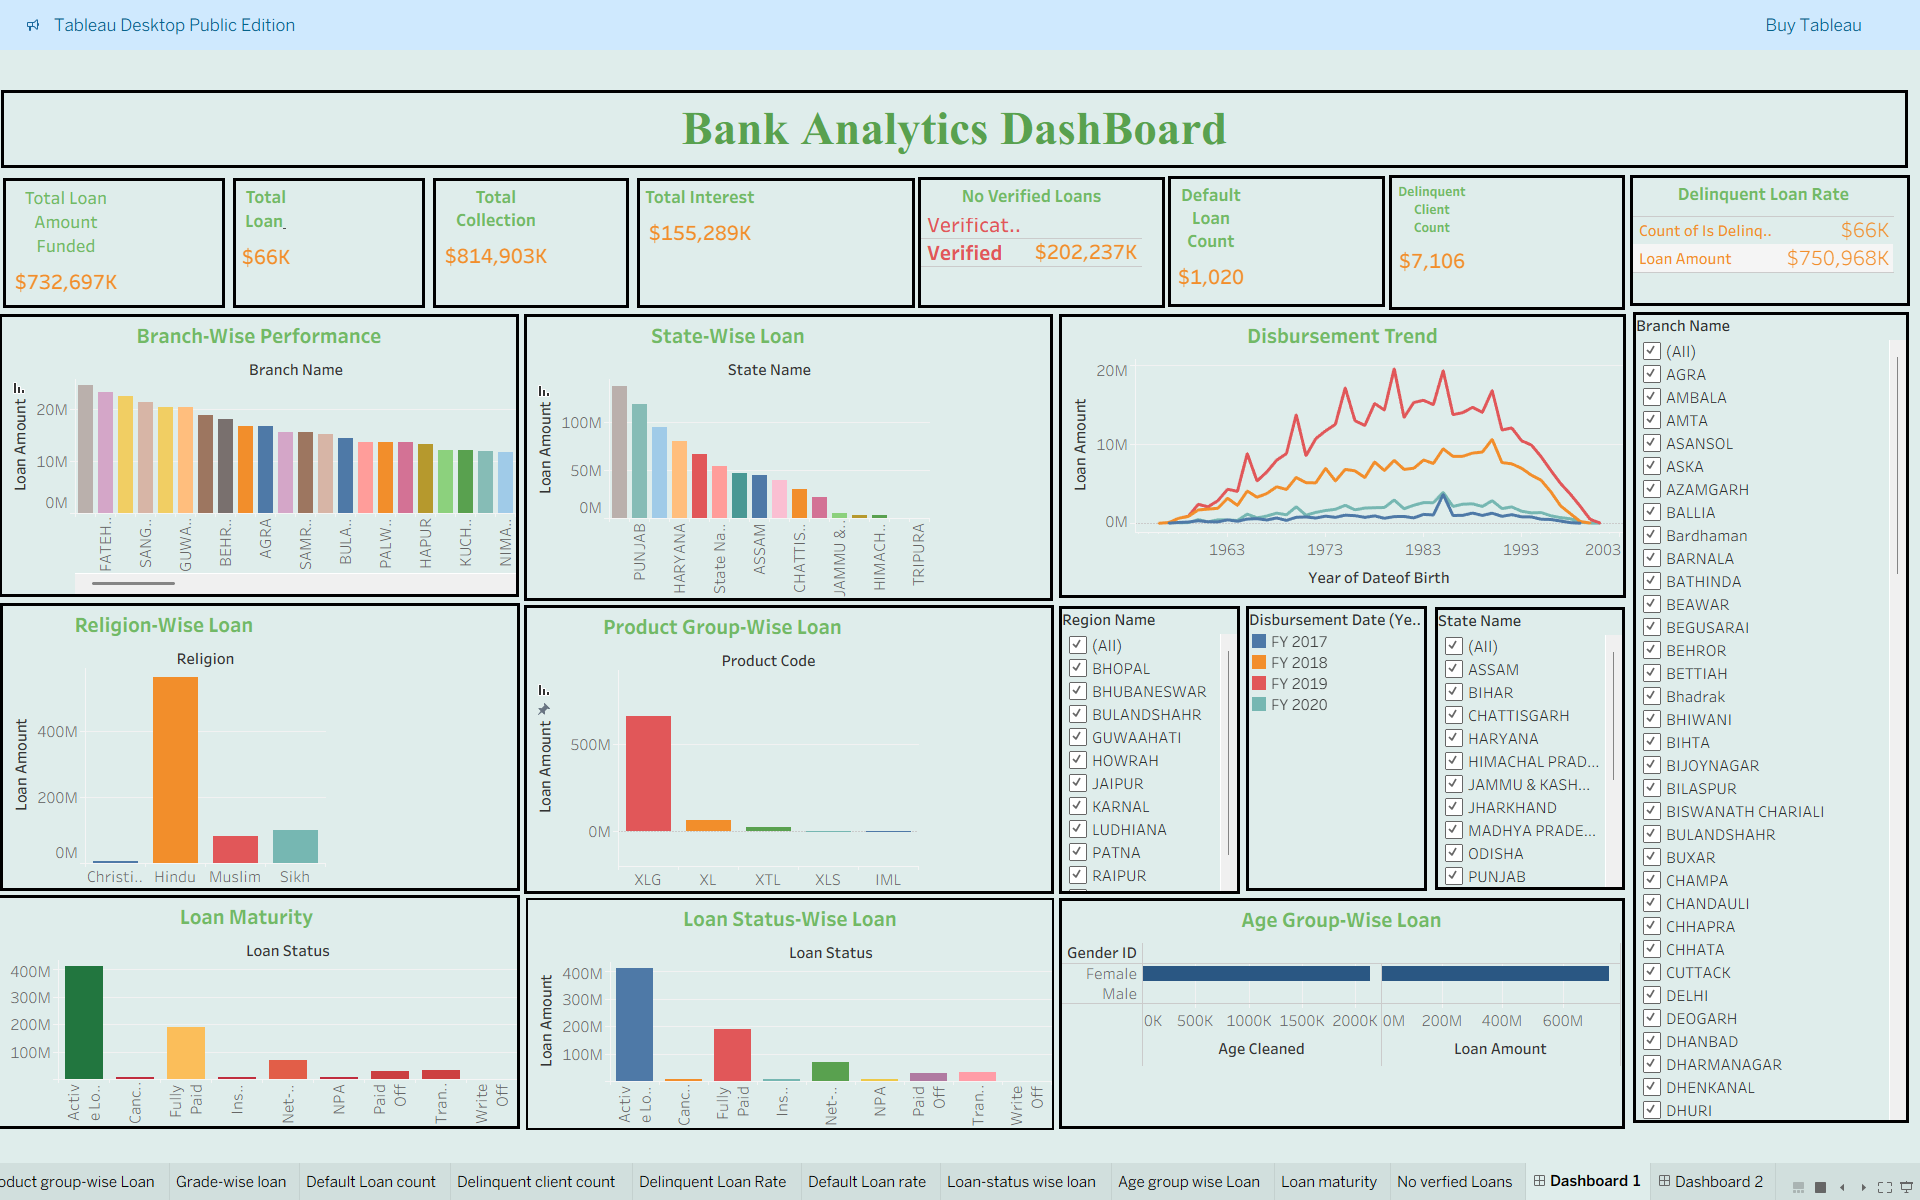

The dashboard page shown, as its layout file describes it:
{"tool":"powerbi","page":{"name":"Dashboard","canvas":[1280,720],"ordinal":0},"visuals":[{"type":"card","title":"Total Loan Amount Funded","fields":{"Values":["Sum(banking dataset.Loan_Amount)"]},"box":[0,63.9,220.8,114.6],"z":0},{"type":"textbox","box":[0,0,1280,64.2],"z":1000},{"type":"card","title":"Total Loan","fields":{"Values":["CountNonNull(banking dataset.Loan_Amount)"]},"box":[220.8,65.1,201.5,114.6],"z":2000},{"type":"card","title":"Total Collection","fields":{"Values":["Sum(banking dataset.Collection_Recovery_fee)"]},"box":[422.3,65.1,226.8,114.6],"z":3000},{"type":"card","title":"Total Intrest","fields":{"Values":["Sum(banking dataset.Total_Rrec_int)"]},"box":[649.1,65.1,231.6,114.6],"z":4000},{"type":"filledMap","title":" State-Wise Loan","fields":{"Category":["banking dataset.State_Name"],"Series":["banking dataset.Loan_Amount"]},"box":[0,178.6,329.4,188.2],"z":5000},{"type":"clusteredBarChart","title":" Branch-Wise Performance","fields":{"Category":["banking dataset.Branch_Name"],"Y":["Sum(banking dataset.Loan_Amount)"]},"box":[0,366.8,329.4,174.9],"z":6000},{"type":"SunburstVizA96234ADB8D143D1837FEC426BB34781","fields":{"category":["banking dataset.Religion"],"measure":["Sum(banking dataset.Loan_Amount)"]},"box":[329.4,179.8,319.7,187],"z":7000},{"type":"clusteredColumnChart","title":"Product Group-Wise Loan","fields":{"Category":["banking dataset.Product_Code"],"Y":["Sum(banking dataset.Loan_Amount)"]},"box":[329.4,366.8,319.7,174.9],"z":8000},{"type":"barChart","fields":{"Category":["banking dataset.Disbursement_Date.Variation.Date Hierarchy.Year","banking dataset.Disbursement_Date.Variation.Date Hierarchy.Quarter","banking dataset.Disbursement_Date.Variation.Date Hierarchy.Month","banking dataset.Disbursement_Date.Variation.Date Hierarchy.Day"],"Y":["Sum(banking dataset.Loan_Amount)"]},"box":[649.1,366.8,317.3,174.9],"z":9000},{"type":"card","title":"Delinquent Client Count","fields":{"Values":["CountNonNull(banking dataset.Is_Delinquent_Loan)"]},"box":[880.7,65.1,197.9,114.6],"z":10000},{"type":"card","title":"Default Loan Count","fields":{"Values":["CountNonNull(banking dataset.Is_Default_Loan)"]},"box":[1078.6,63.9,201.5,114.6],"z":11000},{"type":"funnel","fields":{"Category":["banking dataset.Grrade"],"Y":["Sum(banking dataset.Loan_Amount)"]},"box":[649.1,178.6,317.3,188.2],"z":12000},{"type":"pieChart","fields":{"Y":["Sum(banking dataset.Loan_Amount)"],"Category":["banking dataset.Loan_Status"]},"box":[966.4,178.6,312.5,188.2],"z":13000},{"type":"lineChart","title":" Loan Maturity","fields":{"Category":["banking dataset.Loan_Status"],"Y":["Sum(banking dataset.Loan_Amount)"]},"box":[966.4,366.8,313.7,174.9],"z":14000},{"type":"pieChart","title":"No Verified Loans","fields":{"Category":["banking dataset.Verification_Status"],"Y":["Sum(banking dataset.Loan_Amount)"]},"box":[966.4,541.7,312.5,176.1],"z":15000},{"type":"columnChart","title":"Age Group-Wise Loan","fields":{"Y":["Sum(banking dataset.Loan_Amount)"],"Category":["banking dataset.Age_Cleaned"]},"box":[0,541.7,329.4,176.1],"z":16000},{"type":"donutChart","fields":{"Y":["Sum(banking dataset.Loan_Amount)"],"Category":["banking dataset.Is_Delinquent_Loan"]},"box":[649.1,541.7,317.3,176.1],"z":17000},{"type":"pieChart","fields":{"Y":["Sum(banking dataset.Loan_Amount)"],"Category":["banking dataset.Is_Default_Loan"]},"box":[329.4,541.7,319.7,176.1],"z":18000}]}

Visuals, with their boxes on the page's 1280x720 design canvas (x1, y1, x2, y2). These are canvas units, not pixel positions in the 1920x1200 screenshot, which may show the page scaled, cropped or inside an application window:
"Total Loan Amount Funded" card: [0,64,221,178]
textbox: [0,0,1280,64]
"Total Loan" card: [221,65,422,180]
"Total Collection" card: [422,65,649,180]
"Total Intrest" card: [649,65,881,180]
" State-Wise Loan" filledMap: [0,179,329,367]
" Branch-Wise Performance" clusteredBarChart: [0,367,329,542]
SunburstVizA96234ADB8D143D1837FEC426BB34781 - banking dataset.Religion x Sum(banking dataset.Loan_Amount): [329,180,649,367]
"Product Group-Wise Loan" clusteredColumnChart: [329,367,649,542]
barChart - banking dataset.Disbursement_Date.Variation.Date Hierarchy.Year x banking dataset.Disbursement_Date.Variation.Date Hierarchy.Quarter: [649,367,966,542]
"Delinquent Client Count" card: [881,65,1079,180]
"Default Loan Count" card: [1079,64,1280,178]
funnel - banking dataset.Grrade x Sum(banking dataset.Loan_Amount): [649,179,966,367]
pieChart - Sum(banking dataset.Loan_Amount) x banking dataset.Loan_Status: [966,179,1279,367]
" Loan Maturity" lineChart: [966,367,1280,542]
"No Verified Loans" pieChart: [966,542,1279,718]
"Age Group-Wise Loan" columnChart: [0,542,329,718]
donutChart - Sum(banking dataset.Loan_Amount) x banking dataset.Is_Delinquent_Loan: [649,542,966,718]
pieChart - Sum(banking dataset.Loan_Amount) x banking dataset.Is_Default_Loan: [329,542,649,718]
